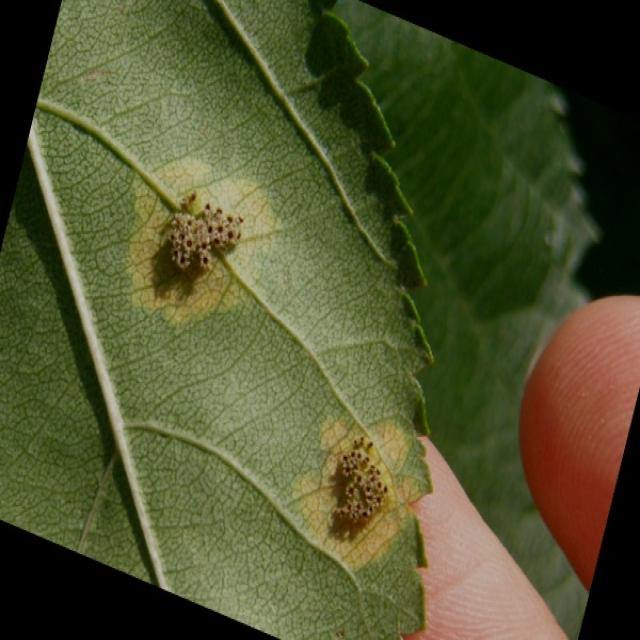Gymnosporangium_Rusts: (122, 167, 267, 308), (292, 420, 410, 547)
